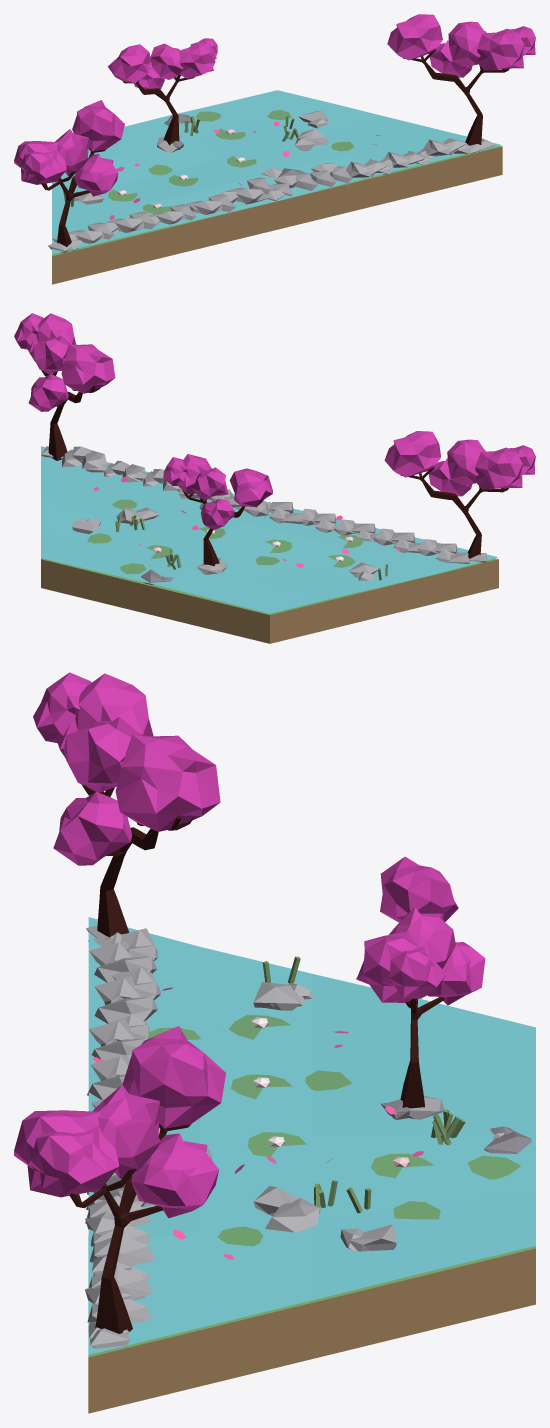
File: pond_half_sprint2_tryfix.glb
3 renders of one model, top to bottom at view 1: azimuth 30°, elevation 25°; view 2: azimuth 150°, elevation 25°; view 3: azimuth 270°, elevation 25°, orthographic. The views are drawn at different scales.
Visible parts, largest first — view 1: SplitRiverWater, SplitBase, Tree_0_Icosphere.005, Tree_0_Icosphere, Tree_0_Icosphere.009, Tree_0_Icosphere.004, Tree_0_Icosphere.007, Tree_0_Icosphere.010, Tree_0_Cube.001, Tree_0_Icosphere.014, Tree_0_Icosphere.003, Tree_0_Icosphere.001 (+9 smaller); view 2: SplitRiverWater, SplitBase, Tree_0_Icosphere.005, Tree_0_Icosphere, Tree_0_Icosphere.002, Tree_0_Icosphere.003, Tree_0_Icosphere.010, Tree_0_Icosphere.006, Tree_0_Cube, Tree_0_Icosphere.007, Tree_0_Icosphere.009, Tree_0_Cube.001 (+8 smaller); view 3: SplitRiverWater, SplitBase, Tree_0_Icosphere, Tree_0_Icosphere.005, Tree_0_Icosphere.006, Tree_0_Icosphere.004, Tree_0_Icosphere.007, Tree_0_Cube.001, Tree_0_Icosphere.008, Tree_0_Icosphere.003, Tree_0_Icosphere.010, Tree_0_Icosphere.009 (+16 smaller).
Boxes of the visible parts, left/top/right/bottom form: SplitRiverWater: left=52, top=90, right=502, bottom=254; SplitBase: left=52, top=146, right=502, bottom=284; Tree_0_Icosphere.005: left=387, top=14, right=442, bottom=60; Tree_0_Icosphere: left=72, top=100, right=124, bottom=151; Tree_0_Icosphere.009: left=477, top=28, right=524, bottom=70; Tree_0_Icosphere.004: left=74, top=154, right=118, bottom=196; Tree_0_Icosphere.007: left=448, top=21, right=486, bottom=66; Tree_0_Icosphere.010: left=108, top=44, right=151, bottom=82; Tree_0_Cube.001: left=403, top=49, right=509, bottom=145; Tree_0_Icosphere.014: left=178, top=42, right=215, bottom=78; Tree_0_Icosphere.003: left=55, top=129, right=88, bottom=176; Tree_0_Icosphere.001: left=21, top=152, right=59, bottom=183; SplitRiverWater: left=41, top=446, right=498, bottom=613; SplitBase: left=41, top=558, right=498, bottom=643; Tree_0_Icosphere.005: left=61, top=344, right=115, bottom=393; Tree_0_Icosphere: left=384, top=431, right=440, bottom=477; Tree_0_Icosphere.002: left=475, top=447, right=522, bottom=489; Tree_0_Icosphere.003: left=447, top=439, right=485, bottom=485; Tree_0_Icosphere.010: left=229, top=468, right=272, bottom=507; Tree_0_Icosphere.006: left=28, top=374, right=68, bottom=411; Tree_0_Cube: left=400, top=466, right=508, bottom=558; Tree_0_Icosphere.007: left=31, top=335, right=70, bottom=374; Tree_0_Icosphere.009: left=26, top=313, right=75, bottom=361; Tree_0_Cube.001: left=41, top=370, right=101, bottom=460; SplitRiverWater: left=88, top=917, right=535, bottom=1354; SplitBase: left=88, top=1246, right=535, bottom=1413; Tree_0_Icosphere: left=115, top=734, right=220, bottom=831; Tree_0_Icosphere.005: left=122, top=1026, right=225, bottom=1128; Tree_0_Icosphere.006: left=131, top=1133, right=218, bottom=1218; Tree_0_Icosphere.004: left=53, top=792, right=132, bottom=865; Tree_0_Icosphere.007: left=92, top=1085, right=160, bottom=1178; Tree_0_Cube.001: left=70, top=1123, right=191, bottom=1333; Tree_0_Icosphere.008: left=29, top=1132, right=106, bottom=1194; Tree_0_Icosphere.003: left=63, top=717, right=140, bottom=792; Tree_0_Icosphere.010: left=380, top=856, right=458, bottom=922; Tree_0_Icosphere.009: left=14, top=1110, right=119, bottom=1197.
Bounding box in the file's own units: 5.66 × 1.67 × 2.53.
